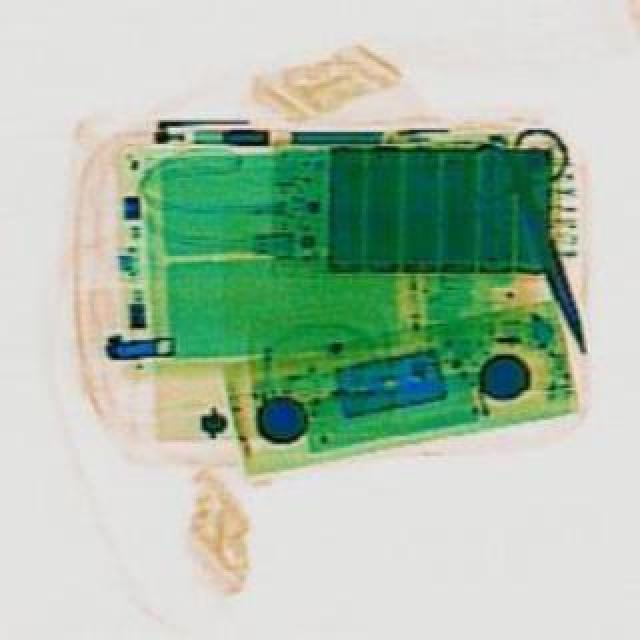pliers: (460, 126, 640, 374)
